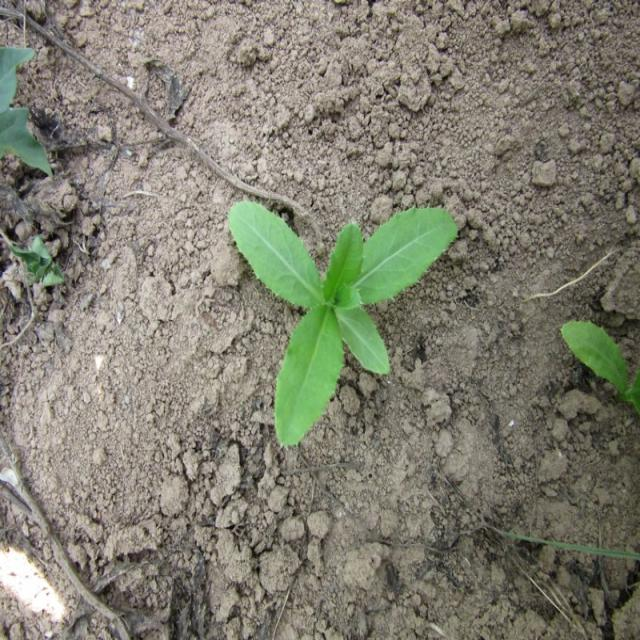field_thistle: (207, 158, 456, 445)
